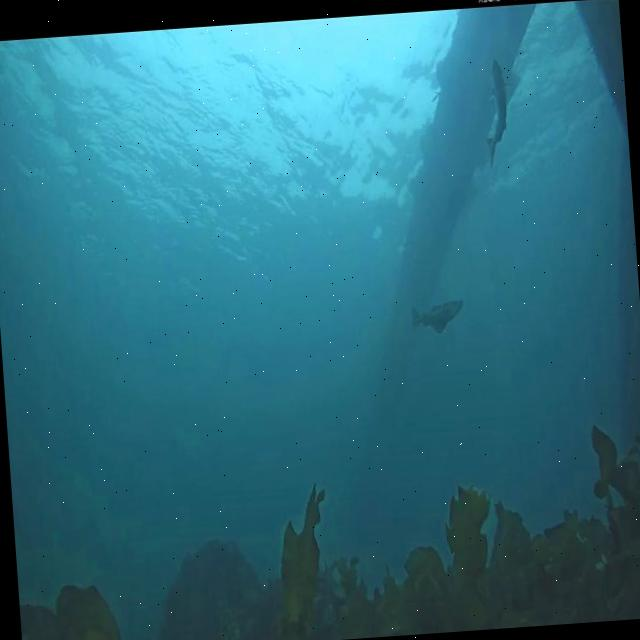fish: (480, 58, 512, 167), (410, 298, 464, 338)
